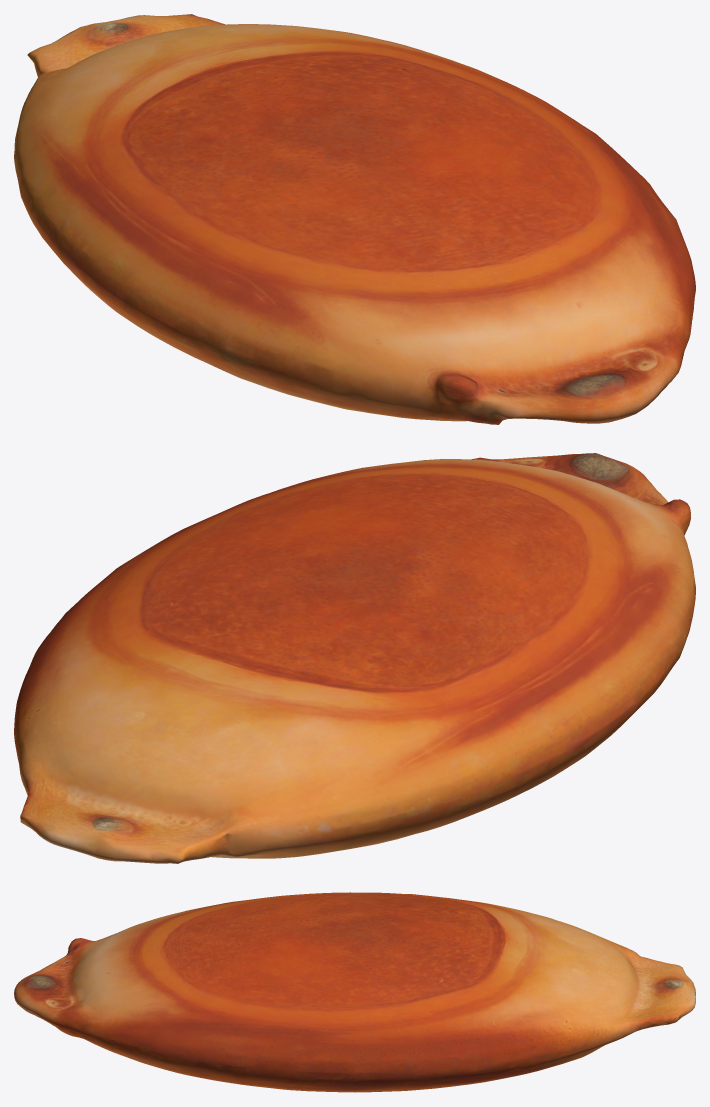
Rendered from trichuris-trichiura_H.glb.
3 views of the same model, one above another, from view 1: azimuth 30°, elevation 25°; view 2: azimuth 150°, elevation 25°; view 3: azimuth 270°, elevation 25° (orthographic). The views are drawn at different scales.
Bounding box in the file's own units: 1.12 × 0.3769 × 1.99.
Materials: 1 (1 with a texture image).
